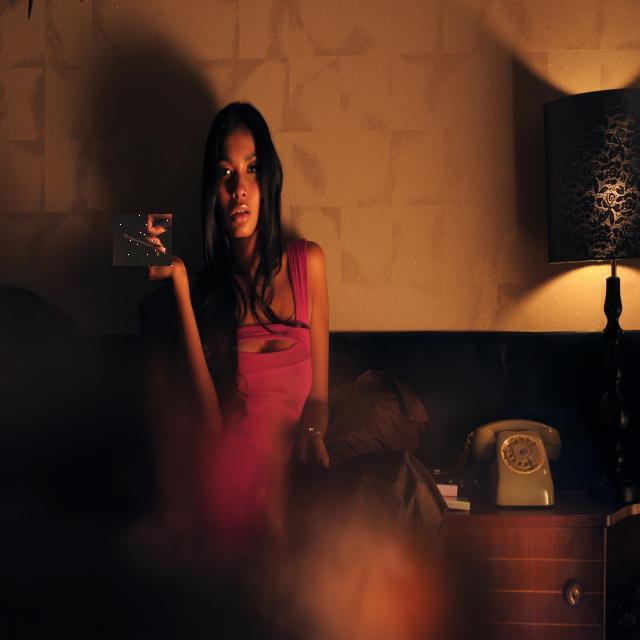smoking: (113, 214, 172, 266)
